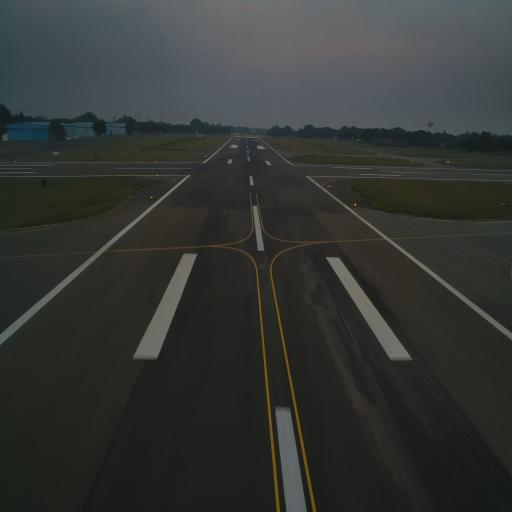on: (149, 192, 154, 202), (352, 201, 356, 208)
